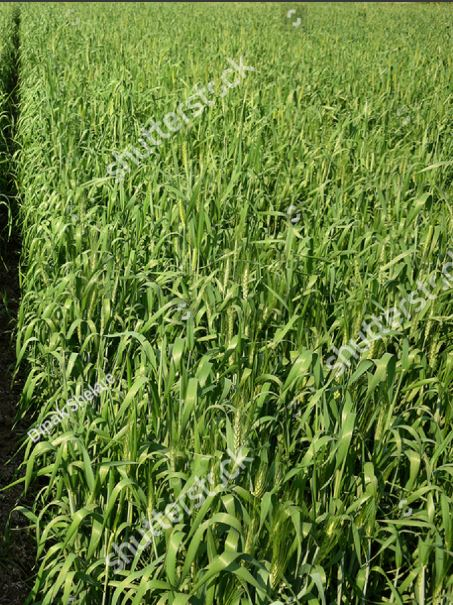Wheat: (62, 276, 436, 596)
